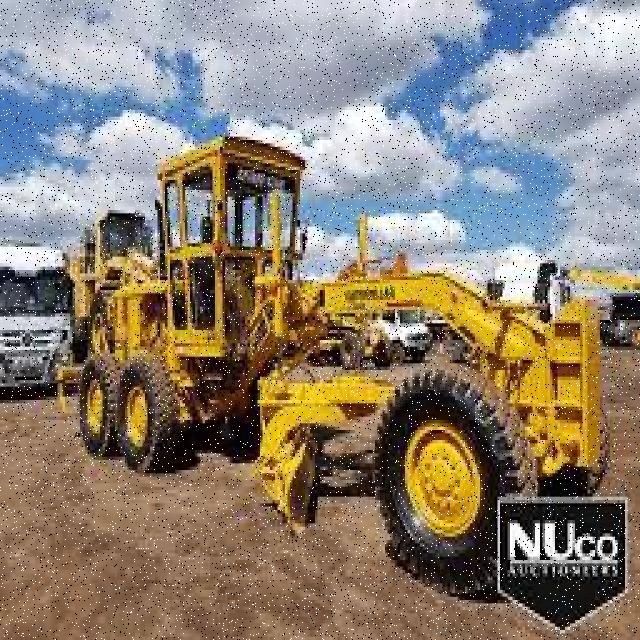Grader: (52, 130, 618, 600)
